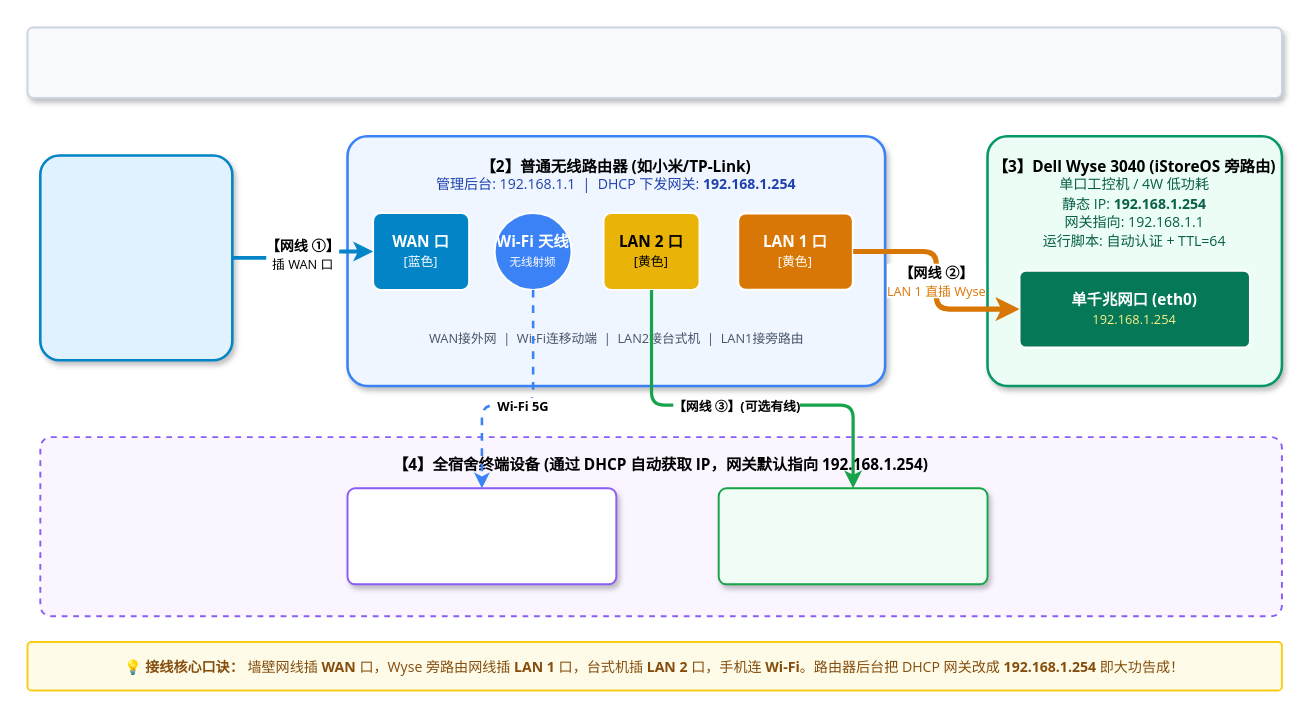
Some shapes in this 1313 by 714 pixel diagram are drawn without their labels. The centre of each missing label's shape, as x and y in pixels:
Dell Wyse 3040 + 无线路由器 极简硬件接线图 总共只需 2 根普通网线，无需交换机，全寝室手机/电脑无感畅连: pixel 655 64
【1】宿舍墙壁网口 RJ45 插口 校园网出口 (172.20.59.x): pixel 137 259
📱 手机 / 平板 / 笔记本 无线连接路由器 Wi-Fi 免登录无感直接上网: pixel 482 538
🖥️ 宿舍台式电脑 PC 网线插路由器 LAN 2 口 千兆有线低延迟对战: pixel 854 538
